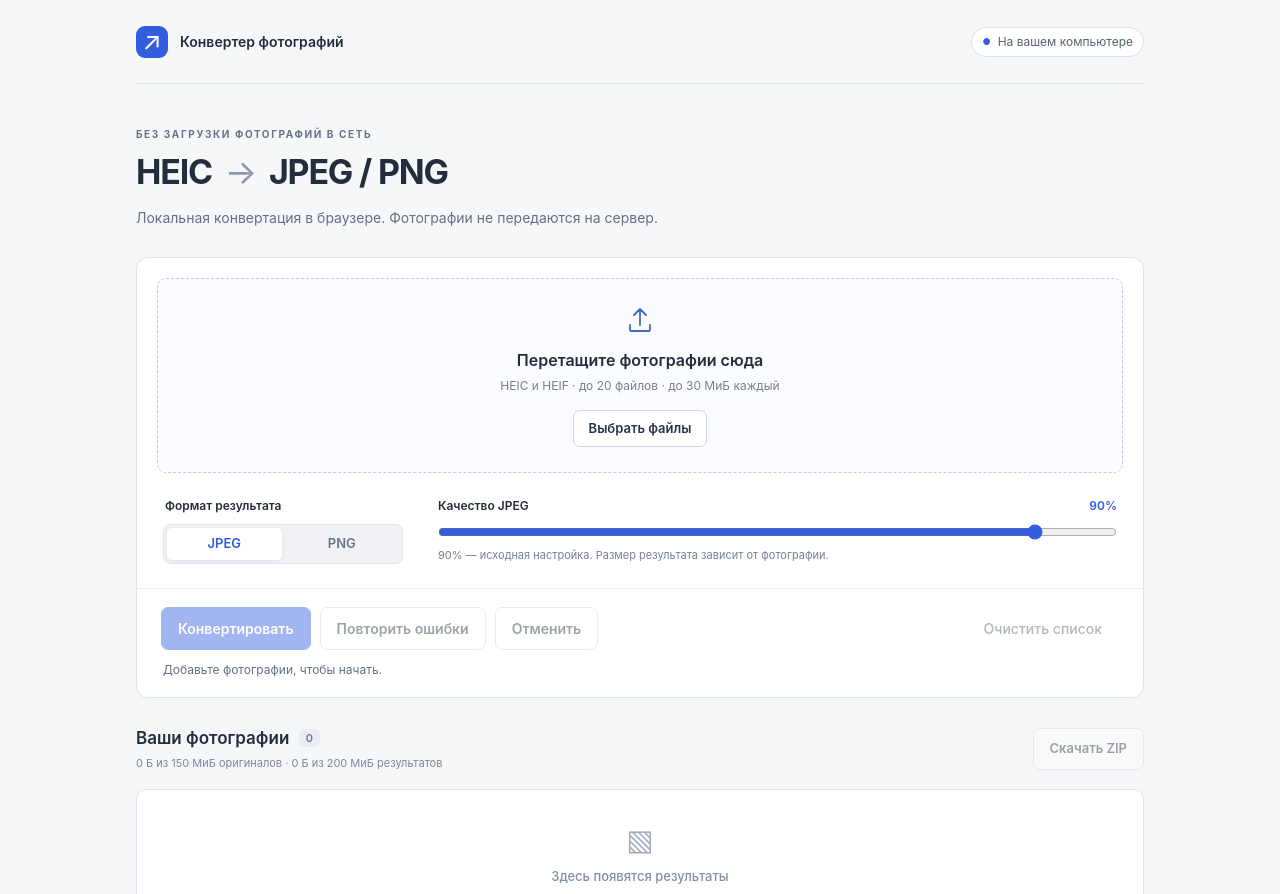
скрывает качество PNG и корректно включает кнопки
expect the slider holds "90": met, box [438,524,1117,540]
expect the button "Конвертировать" is disabled: met, box [161,607,310,650]
Click the radio button labelled "PNG": click(342, 543) [328,535,356,551]
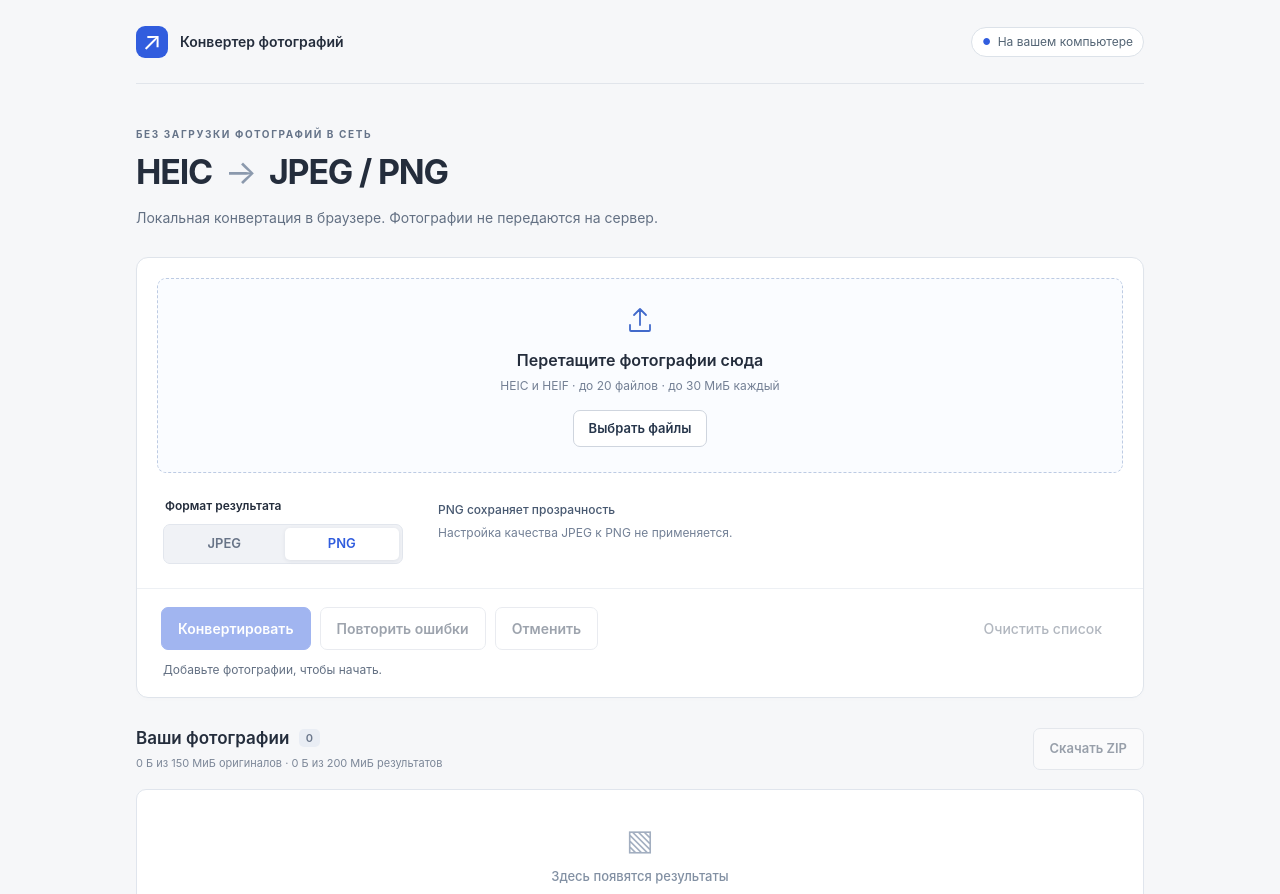
expect the slider is gone: met
Click the radio button labelled "JPEG": click(224, 543) [208,535,241,551]
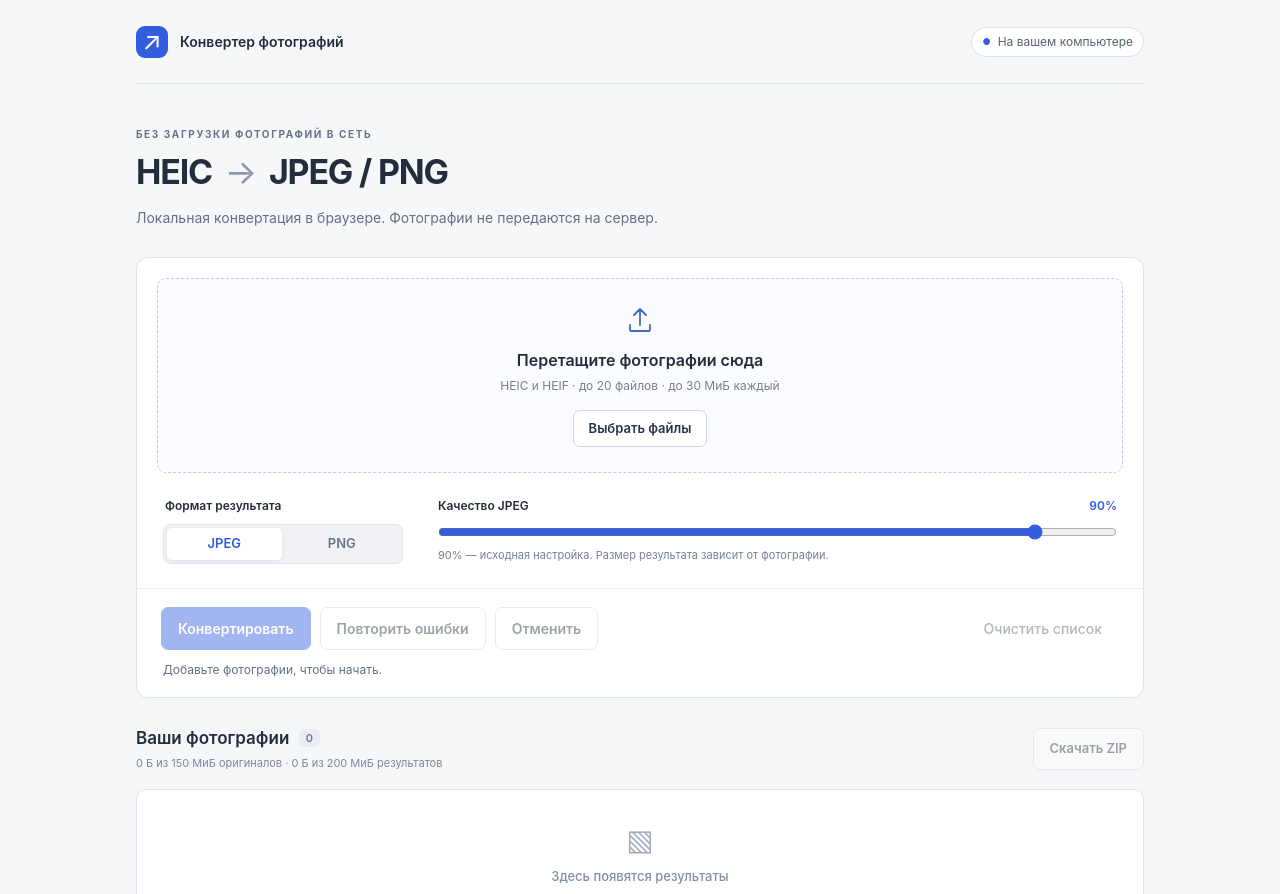
expect the slider holds "90": met, box [438,524,1117,540]
